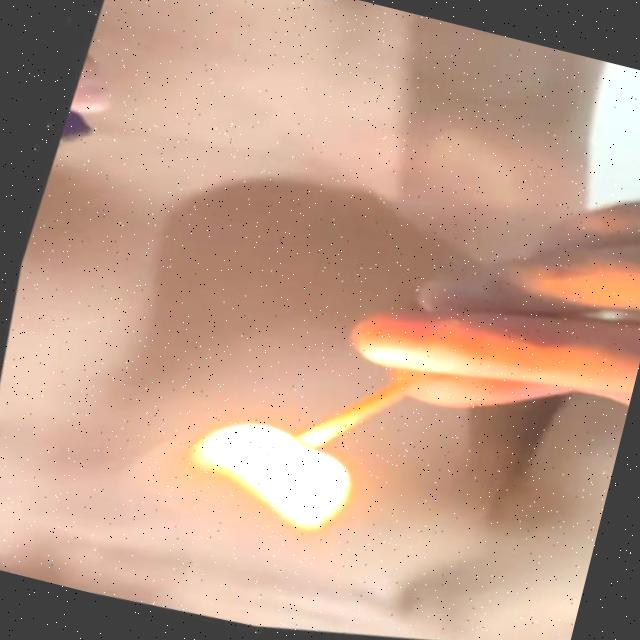fire: (161, 392, 373, 568)
